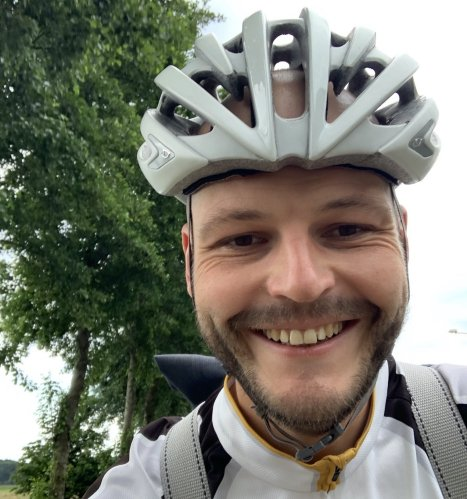helmet: (138, 7, 440, 434)
